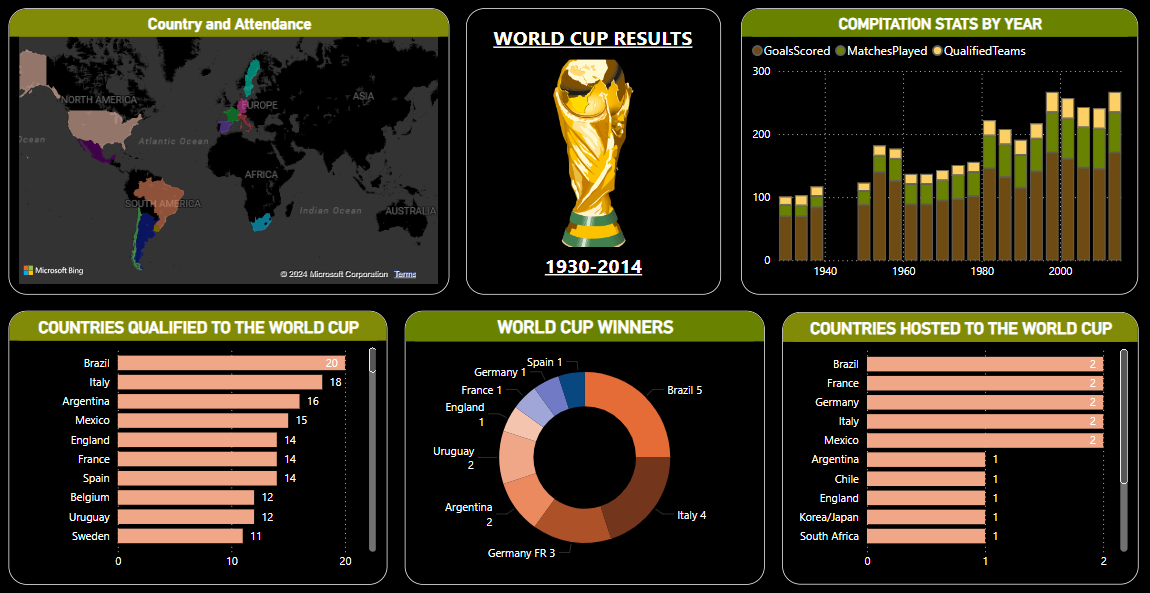

Layout of this report page (visuals, bound fields, positions):
{"tool":"powerbi","page":{"name":"Page 1","canvas":[1280,720],"ordinal":0},"visuals":[{"type":"image","box":[526.9,67.2,279.9,314.2],"z":0},{"type":"textbox","box":[536.5,79.6,259.3,43.9],"z":1000},{"type":"textbox","box":[565.4,329.3,203.1,41.2],"z":2000},{"type":"columnChart","title":"COMPITATION STATS BY YEAR","fields":{"Y":["Sum(WorldCups.GoalsScored)","Sum(WorldCups.MatchesPlayed)","Sum(WorldCups.QualifiedTeams)"],"Category":["WorldCups.Year"]},"box":[828.8,67.2,436.4,314.2],"z":3000},{"type":"donutChart","title":"WORLD CUP WINNERS","fields":{"Category":["WorldCups.Winner"],"Y":["CountNonNull(WorldCups.Winner)"]},"box":[459.7,399.3,395.2,300.5],"z":4000},{"type":"barChart","title":"COUNTRIES QUALIFIED TO THE WORLD CUP","fields":{"Category":["World Cup - Tableau format.Team"],"Y":["Count(World Cup - Tableau format.Year)"]},"box":[24.7,399.3,415.8,300.5],"z":5000},{"type":"barChart","title":"COUNTRIES HOSTED TO THE WORLD CUP","fields":{"Category":["WorldCups.Country"],"Y":["CountNonNull(WorldCups.Country)"]},"box":[874.1,400.7,391.1,299.1],"z":6000},{"type":"filledMap","fields":{"Category":["WorldCups.Country"],"Series":["WorldCups.Attendance"]},"box":[24.7,67.2,484.4,314.2],"z":7000}]}

Visuals, with their boxes on the page's 1280x720 design canvas (x1, y1, x2, y2). These are canvas units, not pixel positions in the 1150x593 screenshot, which may show the page scaled, cropped or inside an application window:
image: pyautogui.locateOnScreen(527, 67, 807, 381)
textbox: pyautogui.locateOnScreen(536, 80, 796, 124)
textbox: pyautogui.locateOnScreen(565, 329, 768, 370)
"COMPITATION STATS BY YEAR" columnChart: pyautogui.locateOnScreen(829, 67, 1265, 381)
"WORLD CUP WINNERS" donutChart: pyautogui.locateOnScreen(460, 399, 855, 700)
"COUNTRIES QUALIFIED TO THE WORLD CUP" barChart: pyautogui.locateOnScreen(25, 399, 440, 700)
"COUNTRIES HOSTED TO THE WORLD CUP" barChart: pyautogui.locateOnScreen(874, 401, 1265, 700)
filledMap - WorldCups.Country x WorldCups.Attendance: pyautogui.locateOnScreen(25, 67, 509, 381)
